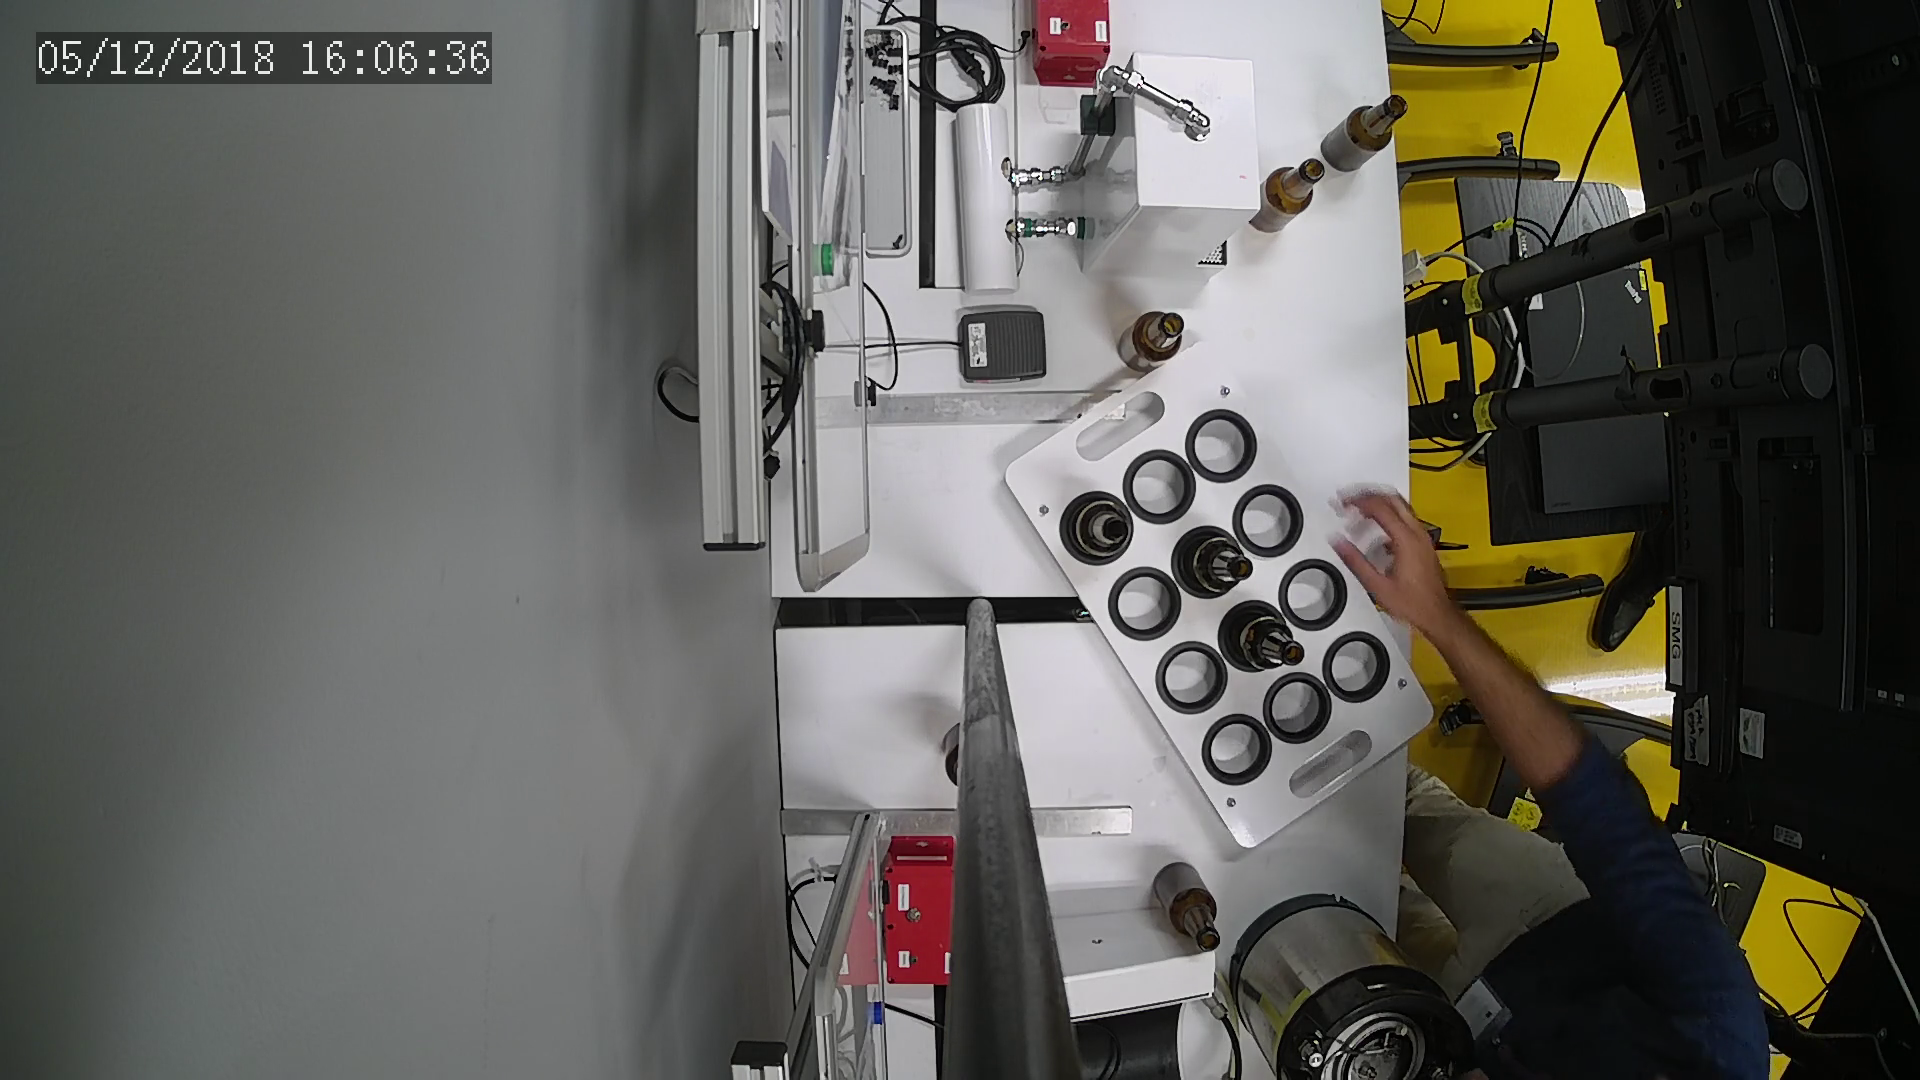filled_bottle: (1220, 603, 1305, 676), (1172, 526, 1254, 599), (1069, 491, 1137, 564)
trolley: (1004, 342, 1439, 849)
unfilled_bottle: (1153, 861, 1226, 957), (1324, 95, 1408, 171), (1249, 157, 1328, 233), (1116, 309, 1185, 378)
